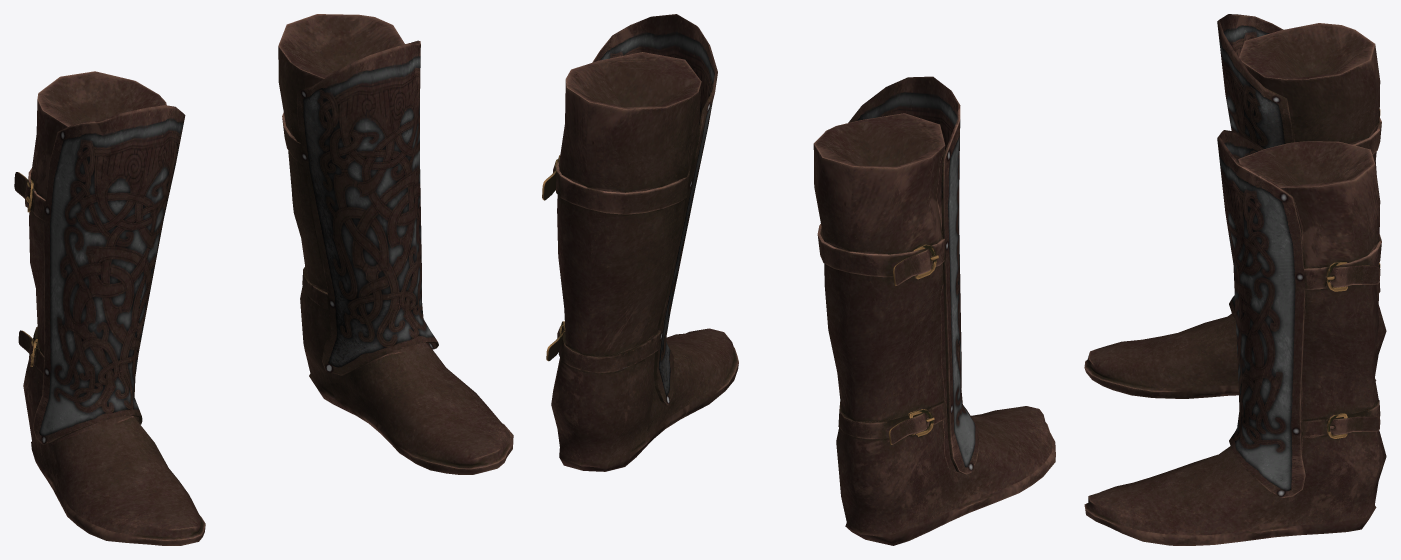
File: cts_rohan_captain_boots.fbx
The picture shows the model from 3 angles, left to right: view 1: azimuth 30°, elevation 25°; view 2: azimuth 150°, elevation 25°; view 3: azimuth 270°, elevation 25°; orthographic projection. The views are drawn at different scales.
Parts seen in each view (by area): view 1: cts_rohan_captain_boots; view 2: cts_rohan_captain_boots; view 3: cts_rohan_captain_boots.
Part boxes in pixels (<box>): cts_rohan_captain_boots: <box>14,14,513,545</box>; cts_rohan_captain_boots: <box>542,14,1055,545</box>; cts_rohan_captain_boots: <box>1084,14,1386,545</box>.
Bounding box in the file's own units: 0.4903 × 0.3222 × 0.4437.
1 material, 1 textured.
